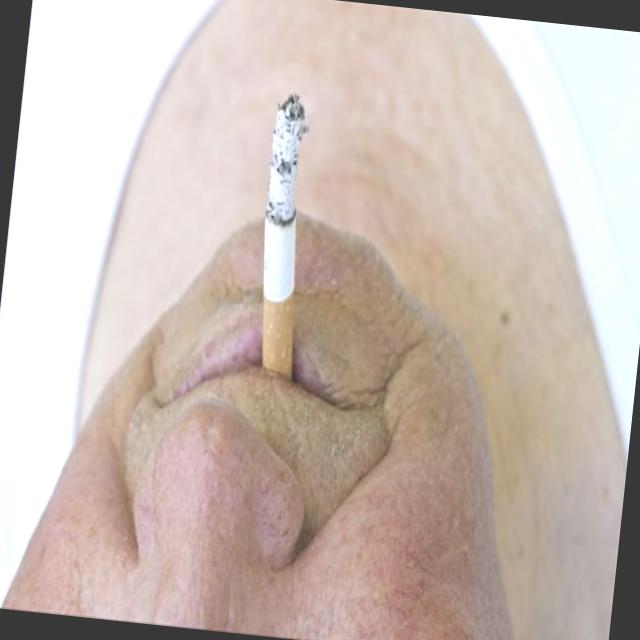smoke: (244, 91, 326, 382)
